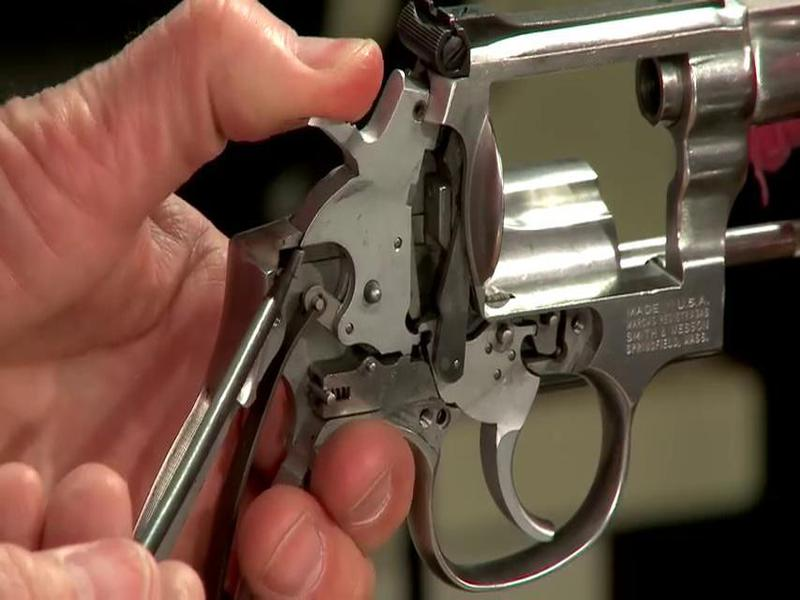Revolver: (127, 11, 799, 564)
